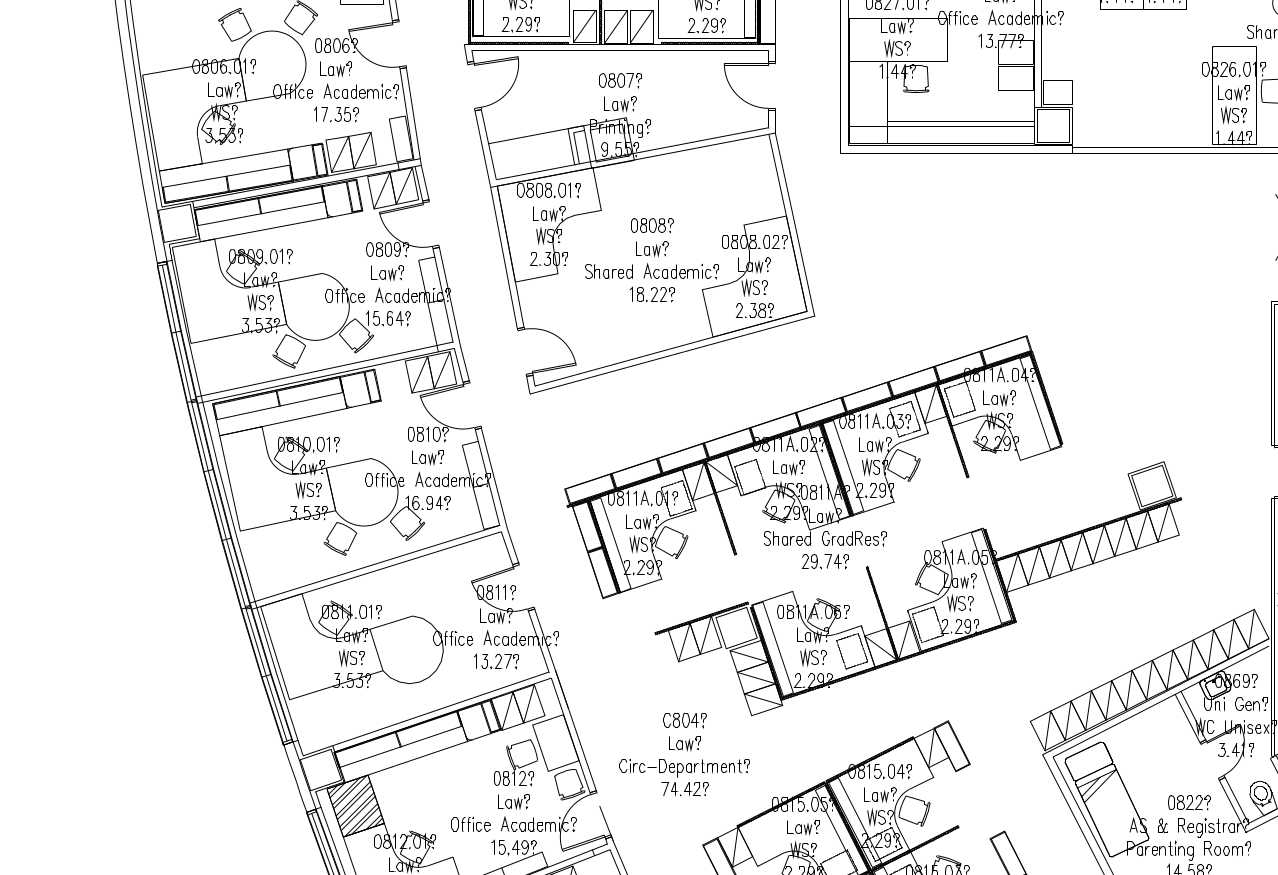door: (550, 788, 617, 854), (1192, 721, 1252, 780), (344, 19, 408, 73), (465, 54, 529, 108), (718, 60, 782, 114), (514, 325, 578, 379), (376, 201, 440, 255), (417, 387, 481, 441), (467, 566, 531, 620)
